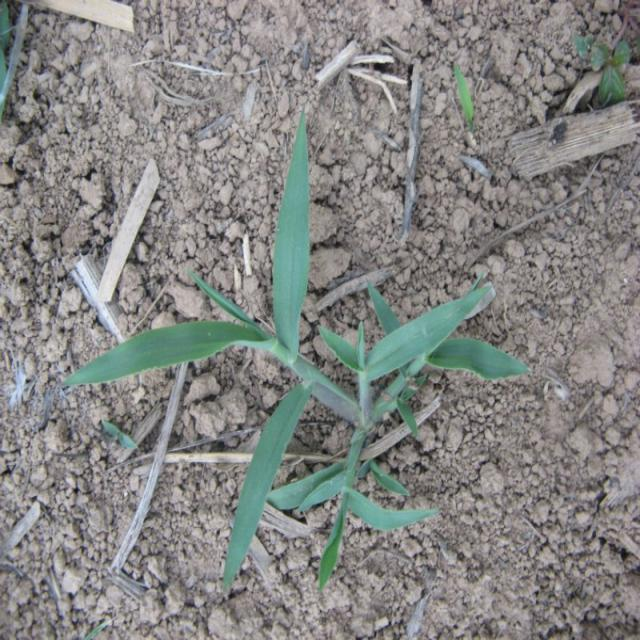bg: (63, 122, 525, 582)
